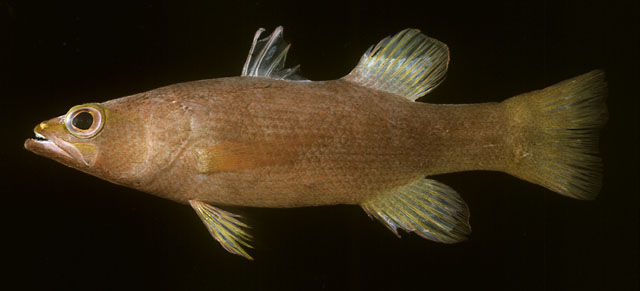fish: (24, 24, 609, 261)
